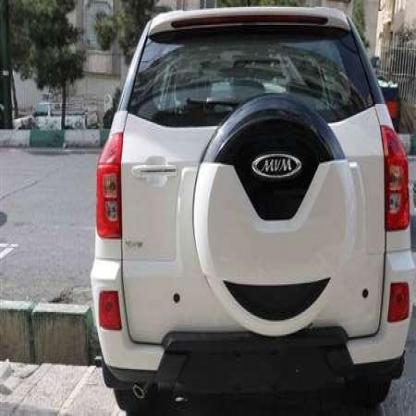Car: (92, 11, 413, 405), (10, 94, 94, 146)
